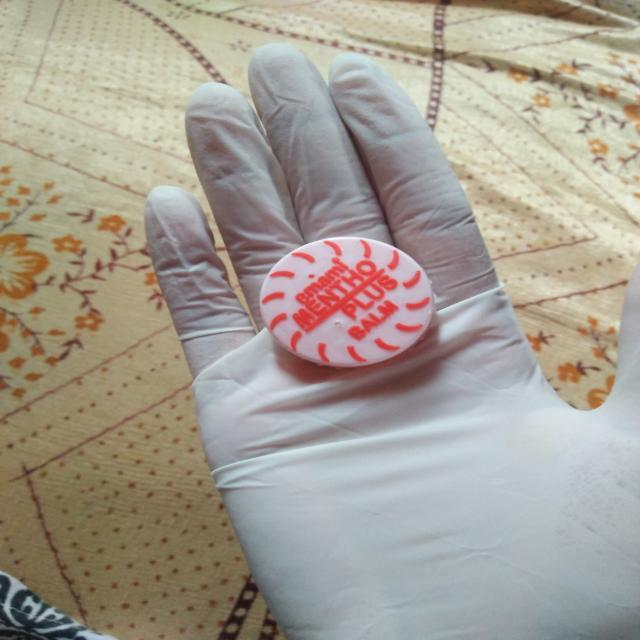glove_hand: (132, 39, 638, 639)
